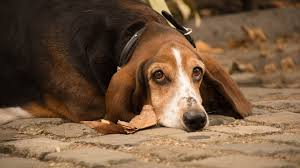dog: (147, 62, 213, 134)
